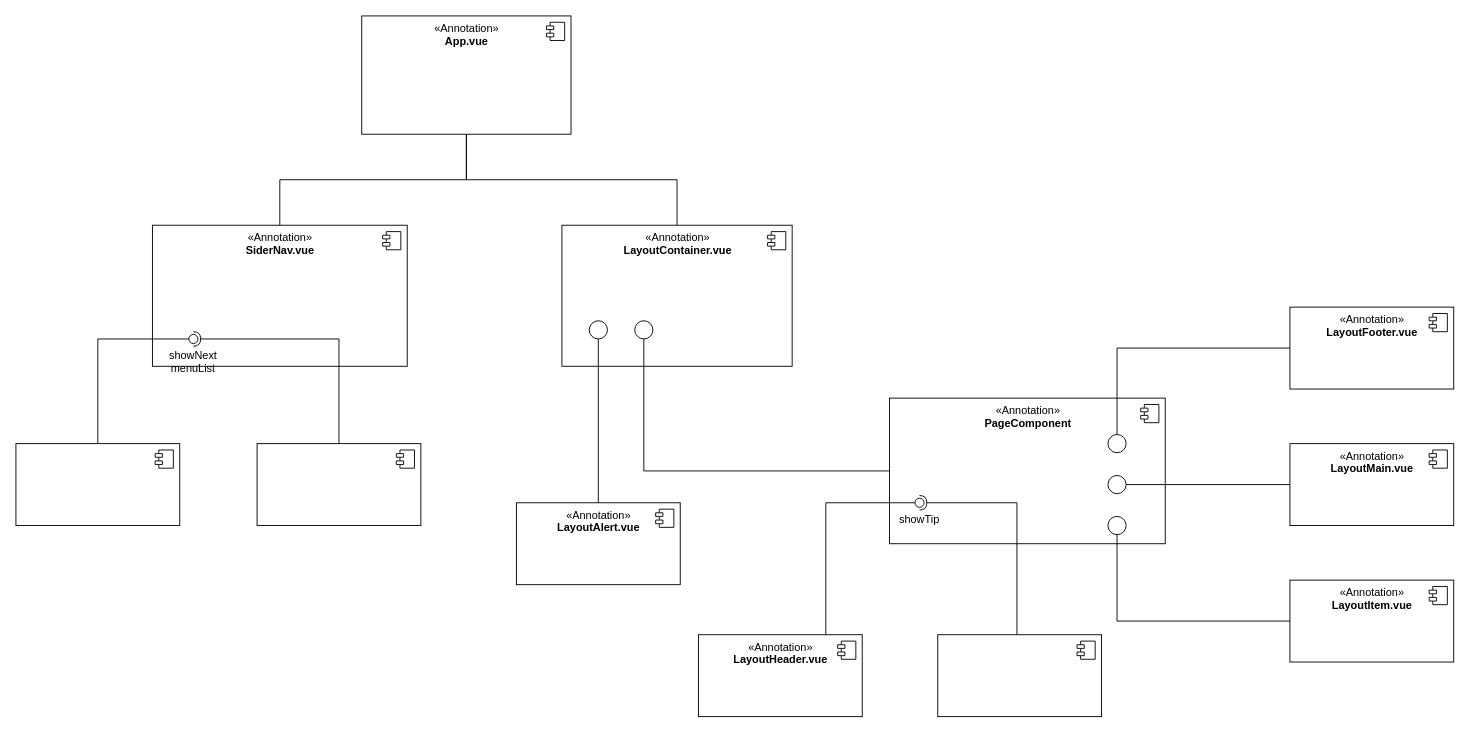
Image size: 1470x733. Some labels were removed from this diagram. The shapes that lost their labels are listed below. From the top down, each one's centre as x and y in pixels, then its label:
At pixel 643 329: "RouterView".
At pixel 97 484: "«Annotation» FirstLevelNav".
At pixel 338 484: "«Annotation» NextLevelNav".
At pixel 1019 675: "«Annotation» LayoutTip.vue".
